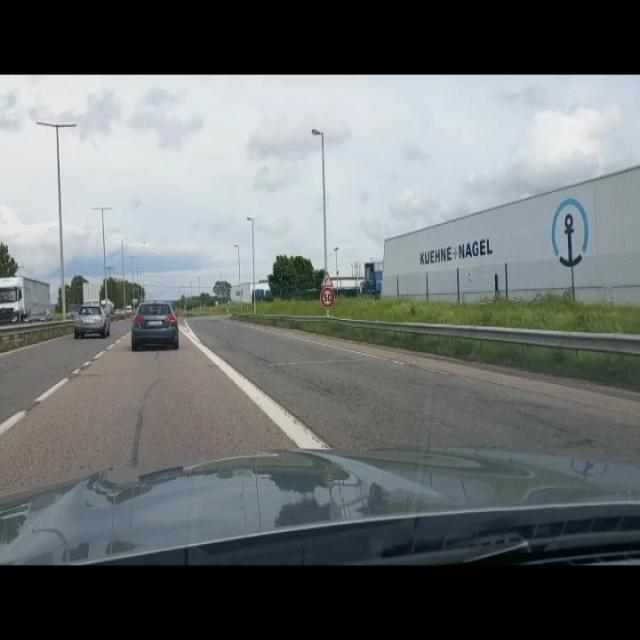speed_50: (320, 287, 335, 309)
turn_right: (320, 270, 335, 287)
